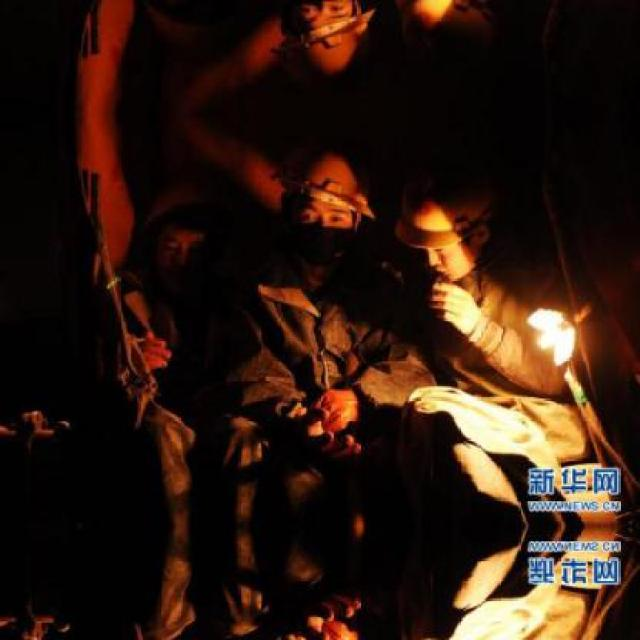helmet: (396, 162, 496, 275), (288, 146, 368, 282), (288, 0, 369, 80), (395, 0, 497, 63)
